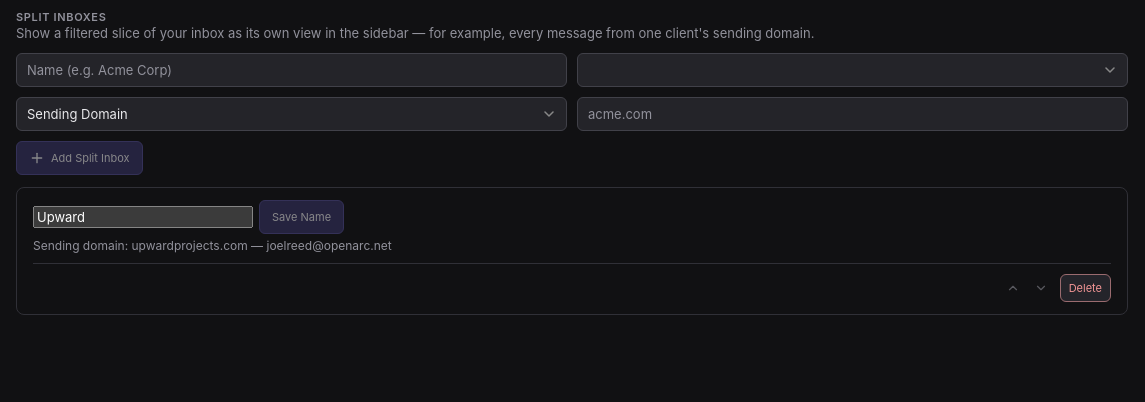
Test: split inbox settings cards › requires confirmation and allows cancellation without deleting
Click the button "Delete".
click(1085, 288)  # box [1060,274,1111,302]
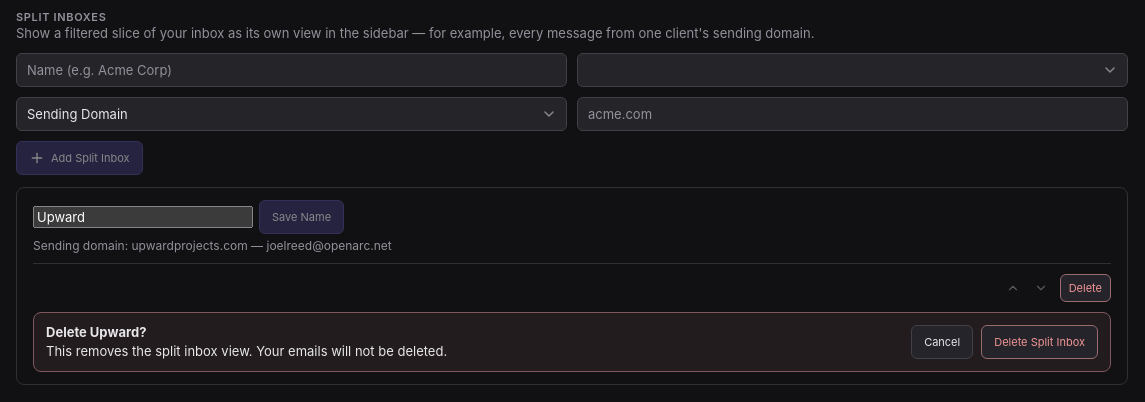
expect the element named "Delete Upward confirmation" shows "Delete Upward?": met, box [33,312,1111,372]
expect the element named "Delete Upward confirmation" shows "Your emails will not be deleted.": met, box [46,343,447,359]
Click the button "Cancel".
click(942, 342)  # box [911,325,973,359]
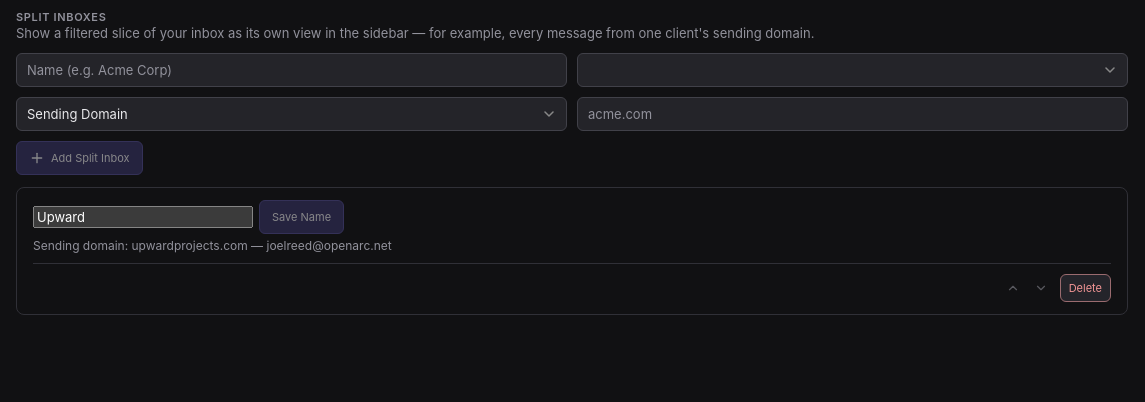
Click the button "Delete".
click(1085, 288)  # box [1060,274,1111,302]
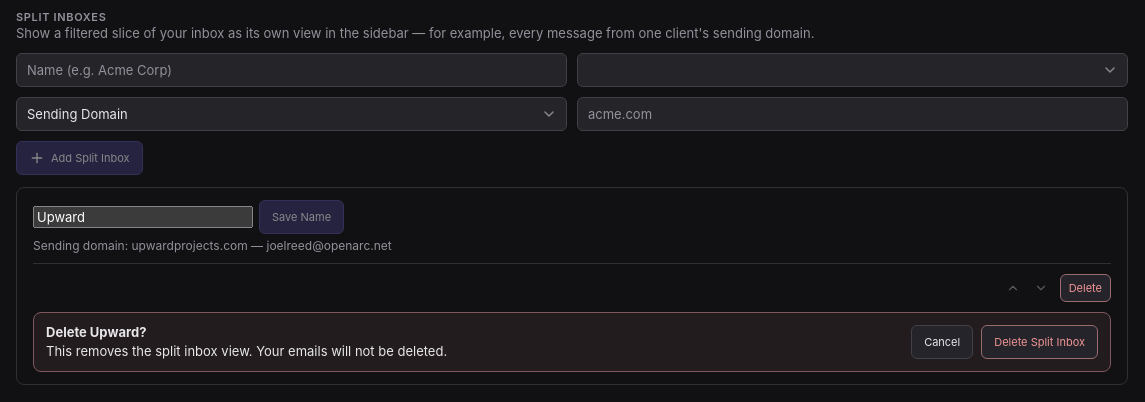
expect the element named "Delete Upward confirmation" is shown: met, box [33,312,1111,372]
